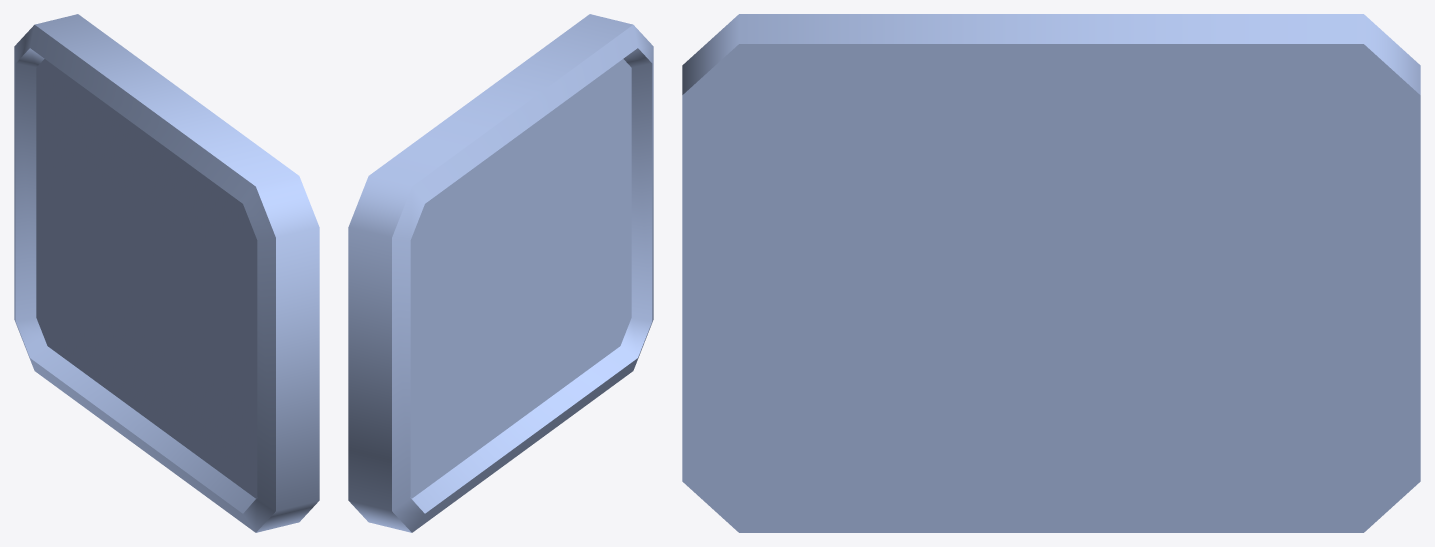
Rendered from mirror.glb.
3 views of the same model, side by side, from view 1: azimuth 30°, elevation 25°; view 2: azimuth 150°, elevation 25°; view 3: azimuth 270°, elevation 25° (orthographic). The views are drawn at different scales.
Visible parts, largest first — view 1: mirror_mesh; view 2: mirror_mesh; view 3: mirror_mesh.
Part boxes in pixels (x1,y1,x2,y2): mirror_mesh: (14,14,319,532); mirror_mesh: (348,14,653,532); mirror_mesh: (682,14,1420,532).
Size of the model in its own units: 0.375 by 2.38 by 3.25.
